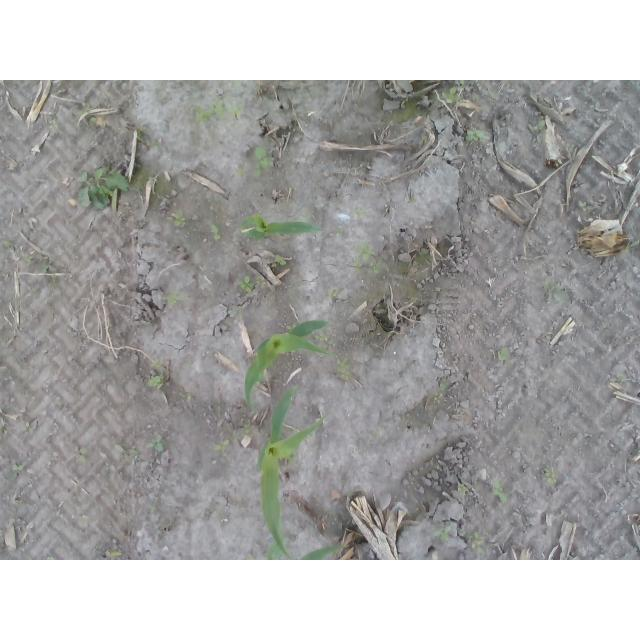Maize: (257, 386, 324, 560), (242, 321, 332, 408), (239, 212, 321, 242), (297, 542, 340, 560)
Weeds: (77, 159, 129, 209), (192, 94, 245, 122), (352, 240, 381, 273), (545, 278, 571, 305), (440, 80, 464, 105), (255, 146, 272, 178), (465, 532, 487, 556), (239, 275, 266, 294), (335, 356, 353, 381), (145, 430, 167, 450), (494, 480, 510, 505), (160, 291, 184, 306), (466, 128, 490, 143), (543, 463, 558, 485), (434, 380, 450, 400), (144, 374, 164, 390), (8, 464, 25, 481), (432, 527, 449, 543), (211, 223, 225, 242), (528, 119, 545, 134), (272, 255, 288, 269), (176, 210, 189, 227), (628, 240, 640, 257), (136, 126, 146, 144), (105, 550, 124, 559), (230, 81, 242, 95), (498, 347, 510, 361), (49, 275, 60, 289), (457, 482, 468, 496), (79, 449, 89, 464), (576, 200, 592, 209), (215, 440, 229, 450), (328, 287, 337, 301), (23, 423, 34, 434), (48, 119, 59, 130), (149, 359, 161, 369), (354, 207, 366, 217), (315, 335, 331, 342), (22, 255, 32, 266), (85, 115, 97, 124), (39, 264, 50, 273), (244, 422, 252, 434), (287, 323, 297, 332), (3, 239, 13, 247), (406, 196, 416, 204), (418, 248, 428, 256), (336, 228, 345, 236), (238, 168, 246, 177), (143, 176, 150, 183), (47, 556, 55, 560)
